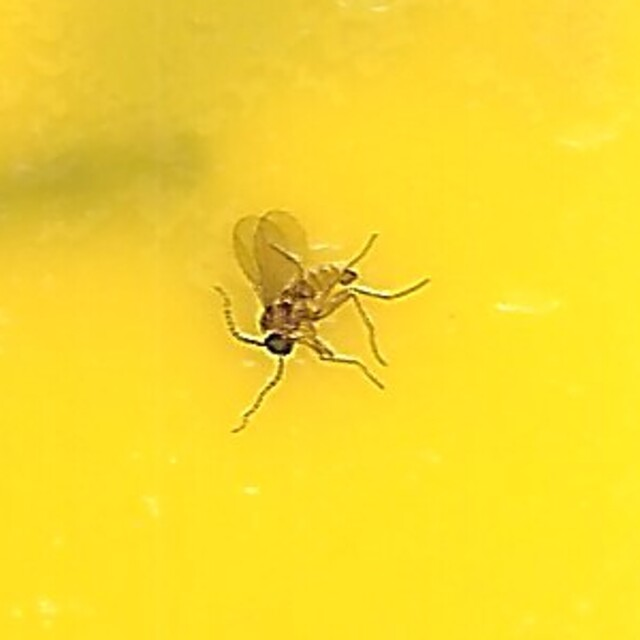Brachycera: (213, 201, 427, 439)
